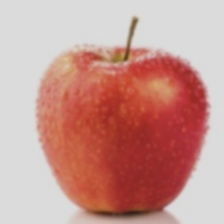apple: (0, 48, 199, 206)
